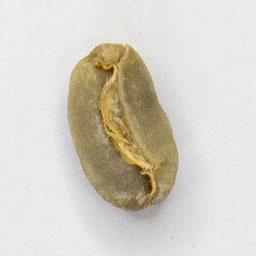longberry: (63, 39, 182, 215)
